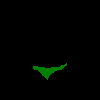mutande: (33, 63, 67, 80)
